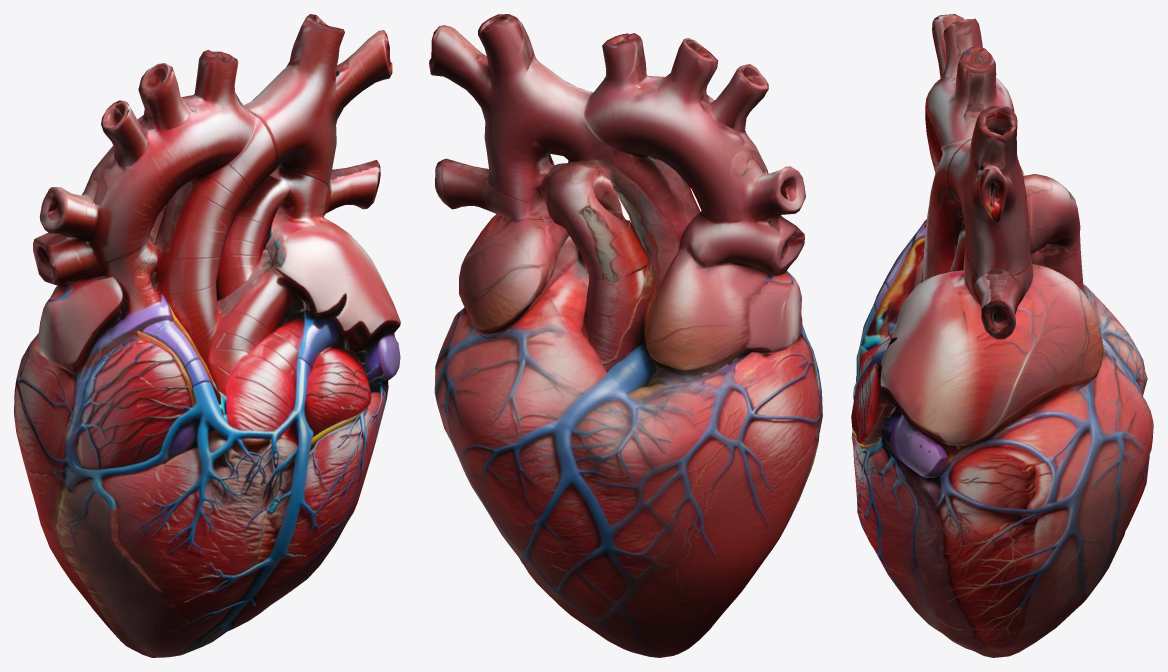
Rendered from heart.glb.
3 renders of one model, left to right at view 1: azimuth 30°, elevation 25°; view 2: azimuth 150°, elevation 25°; view 3: azimuth 270°, elevation 25°, orthographic. The views are drawn at different scales.
Parts seen in each view (by area): view 1: Object_4; view 2: Object_4; view 3: Object_4.
Part boxes in pixels (left/top/right/bottom): Object_4: left=14, top=14, right=400, bottom=657; Object_4: left=429, top=14, right=822, bottom=657; Object_4: left=851, top=14, right=1153, bottom=657.
Bounding box in the file's own units: 1.26 × 2 × 0.8841.
1 material, 1 textured.
